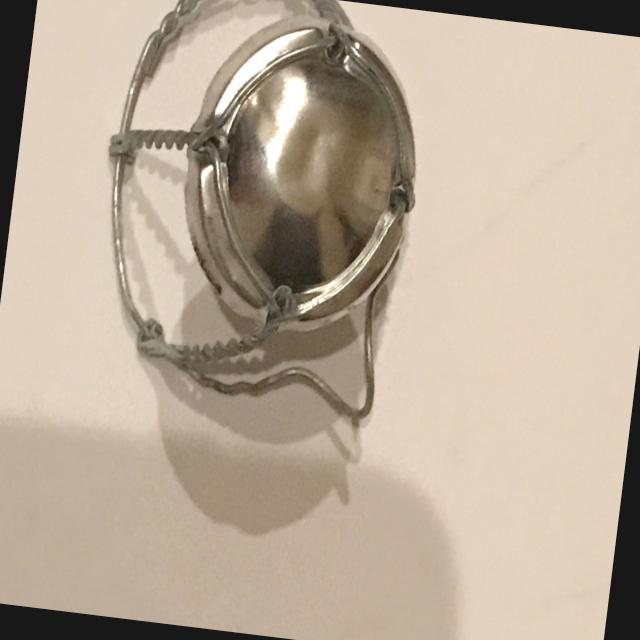Metal: (33, 0, 458, 463)
